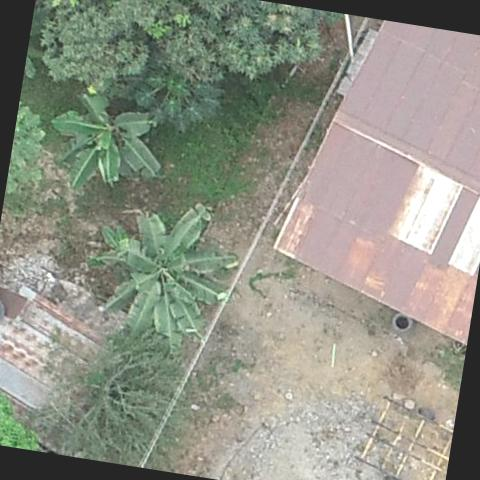Banana-plant: (99, 199, 244, 357), (41, 74, 179, 208), (88, 214, 136, 276)
